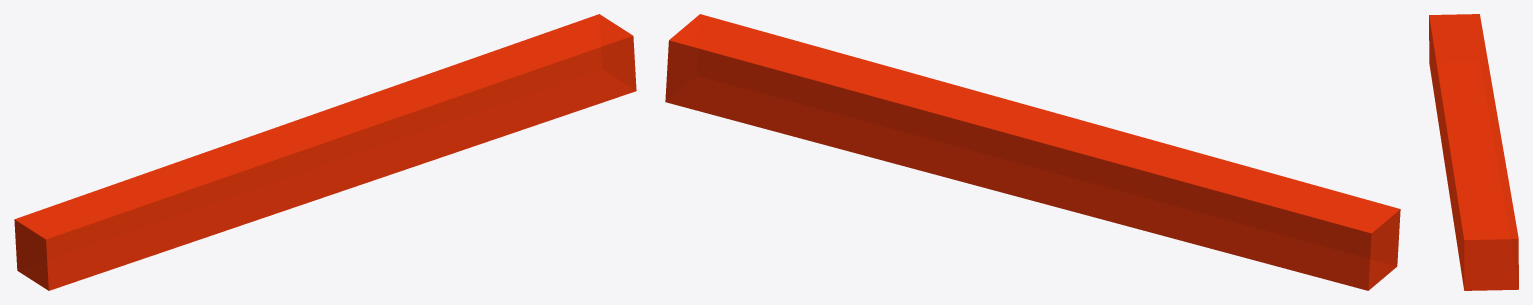
File: Event_421364160_EErechit_46.fbx
3 views of the same model, side by side, from view 1: azimuth 30°, elevation 25°; view 2: azimuth 150°, elevation 25°; view 3: azimuth 270°, elevation 25° (orthographic). The views are drawn at different scales.
Parts seen in each view (by area): view 1: Model; view 2: Model; view 3: Model.
Boxes of the visible parts, bbox=[...] form: Model: bbox=[14, 14, 636, 290]; Model: bbox=[665, 14, 1400, 290]; Model: bbox=[1429, 14, 1518, 290].
Bounding box in the file's own units: 0.8917 × 0.1297 × 0.1281.
